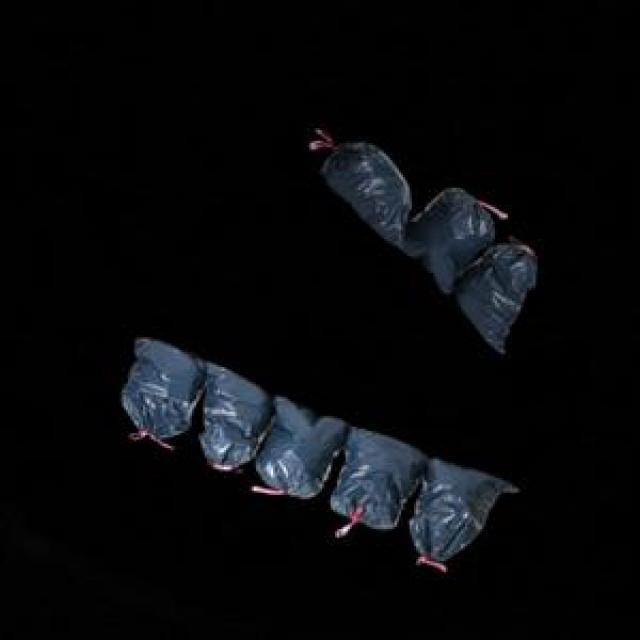waste: (121, 341, 518, 571), (310, 130, 538, 352)
